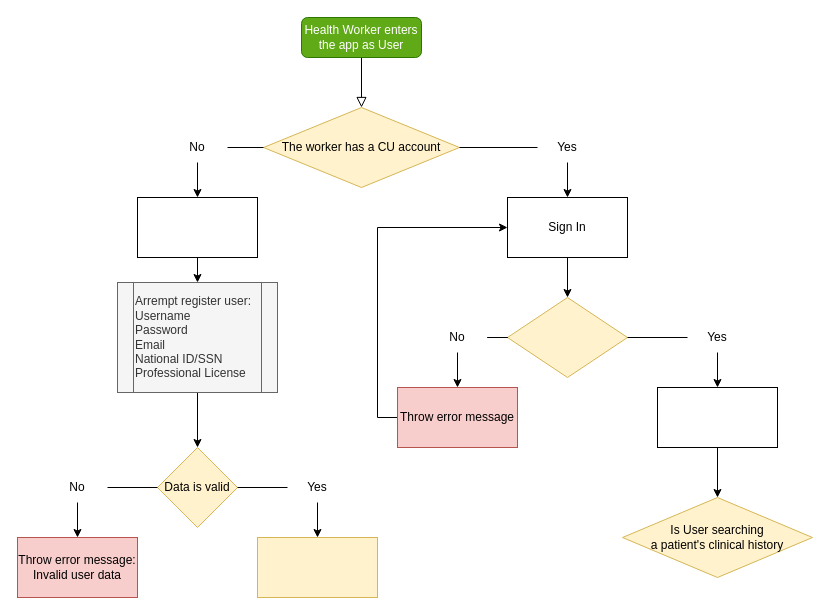
This 830x615 diagram has some shape labels left out. The shapes that lost their labels are listed below. From the top down, each one's centre as x and y in pixels, then its label:
At (x=197, y=227): "Create an account".
At (x=567, y=337): "Has valid credentials".
At (x=717, y=417): "Render Dashboard: renderDashboard() for user".
At (x=317, y=567): "Register user: registerUser(data)".
